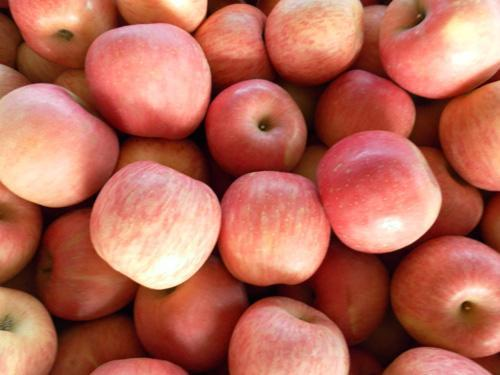apple: (91, 154, 215, 299), (316, 130, 441, 254), (83, 21, 213, 140), (1, 78, 116, 206), (215, 169, 329, 292), (389, 238, 498, 363), (33, 206, 137, 323), (377, 1, 499, 100), (204, 79, 307, 178), (226, 296, 350, 373), (264, 1, 363, 88), (312, 69, 416, 146), (8, 1, 117, 67)
